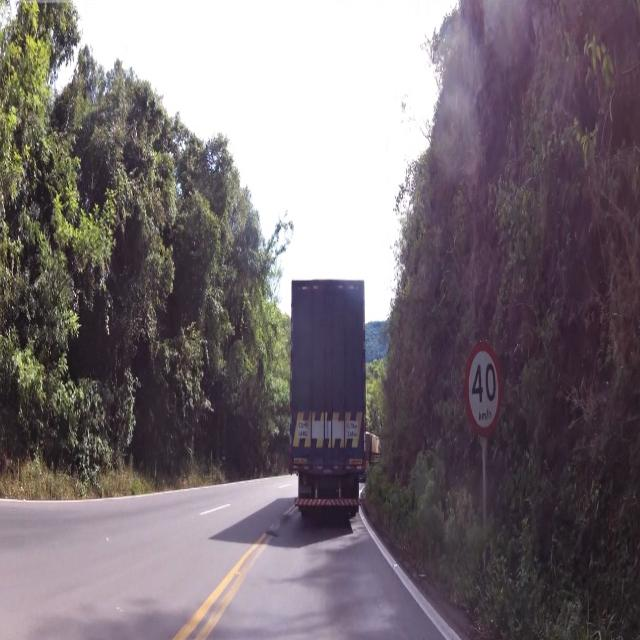R-19: (460, 346, 509, 440)
